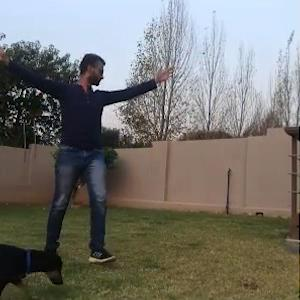takeoff: (0, 5, 231, 285)
